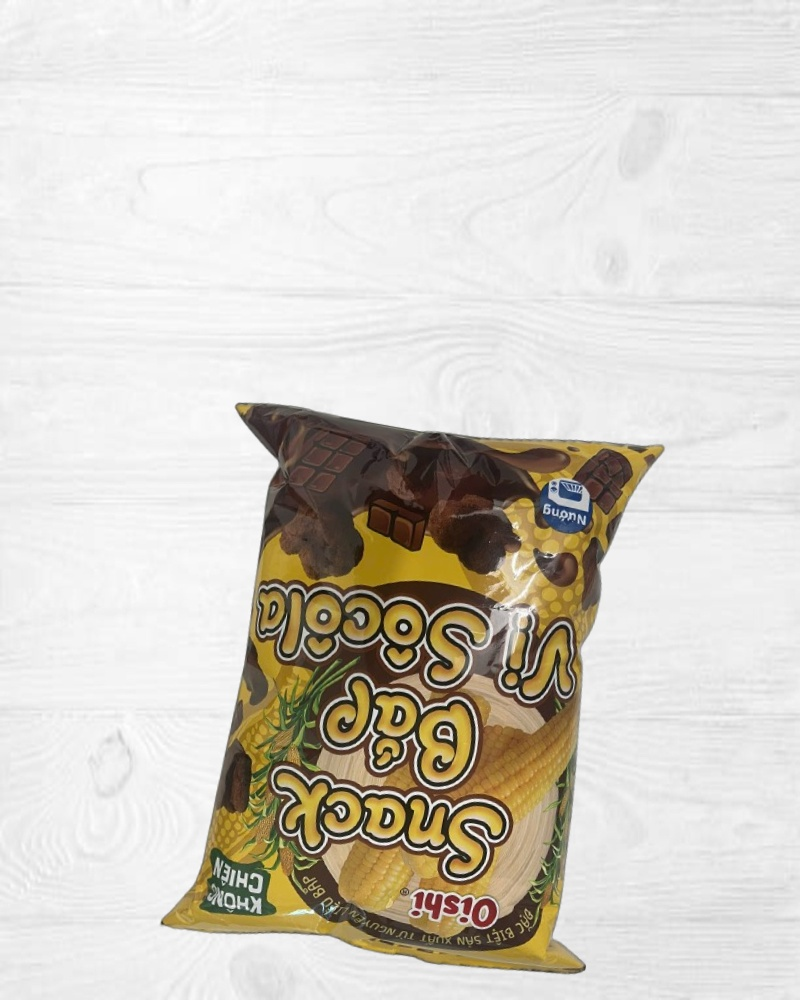Snack socola: (147, 375, 677, 999)
